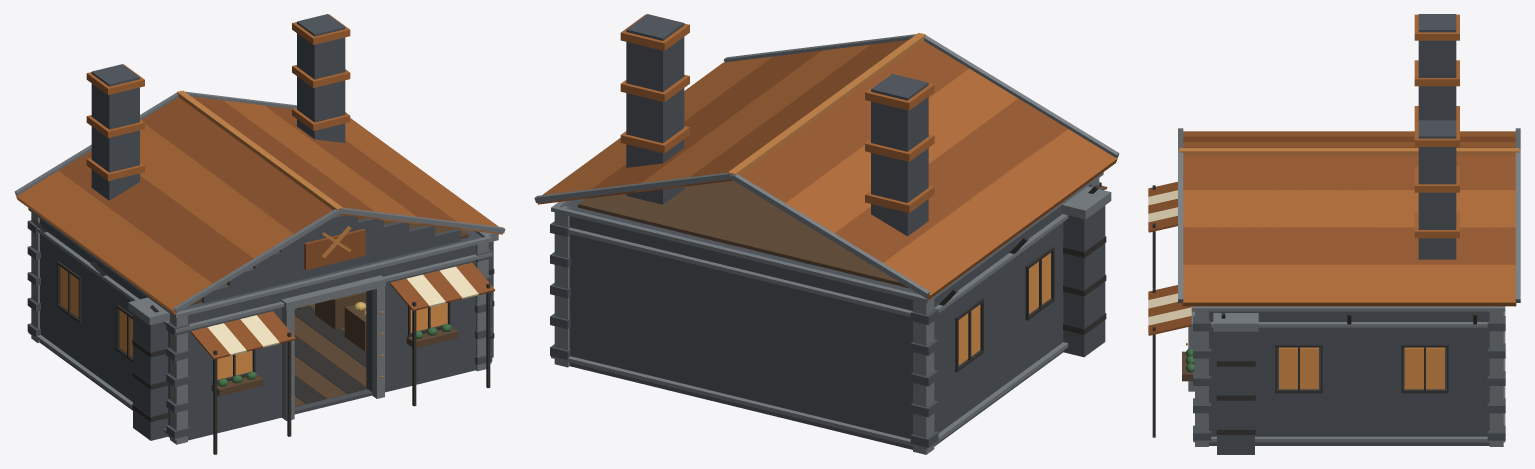
File: Market.glb
3 views of the same model, side by side, from view 1: azimuth 30°, elevation 25°; view 2: azimuth 150°, elevation 25°; view 3: azimuth 270°, elevation 25° (orthographic). The views are drawn at different scales.
Parts seen in each view (by area): view 1: Market_278_ProfileRoof, Market_002_Side, Market_269_ProfileRoof, Market_040_FrontWing, Market_272_ProfileRoof, Market_003_FrontWing, Market_275_ProfileRoof, Market_299_ExhaustStack, Market_312_ExhaustStack, Market_284_ProfileRoof, Market_294_FoundryButtress, Market_290_ProfileRoof (+52 smaller); view 2: Market_001_Rear, Market_002_Side, Market_278_ProfileRoof, Market_095_Ceiling, Market_275_ProfileRoof, Market_269_ProfileRoof, Market_272_ProfileRoof, Market_312_ExhaustStack, Market_299_ExhaustStack, Market_284_ProfileRoof, Market_294_FoundryButtress, Market_287_ProfileRoof (+21 smaller); view 3: Market_039_Side, Market_290_ProfileRoof, Market_287_ProfileRoof, Market_284_ProfileRoof, Market_281_ProfileRoof, Market_312_ExhaustStack, Market_307_FoundryButtress, Market_299_ExhaustStack, Market_293_Ridge, Market_088_SideCourse, Market_080_SideCourse, Market_272_ProfileRoof (+17 smaller).
Part boxes in pixels (x1,y1,x2,y2): Market_278_ProfileRoof: (16,170,212,314); Market_002_Side: (40,219,169,437); Market_269_ProfileRoof: (141,97,332,233); Market_040_FrontWing: (366,235,482,392); Market_272_ProfileRoof: (140,124,293,258); Market_003_FrontWing: (181,283,289,440); Market_275_ProfileRoof: (58,150,253,283); Market_299_ExhaustStack: (91,64,139,200); Market_312_ExhaustStack: (297,14,345,142); Market_284_ProfileRoof: (223,100,420,224); Market_294_FoundryButtress: (133,313,168,440); Market_290_ProfileRoof: (345,118,502,234); Market_001_Rear: (564,205,917,448); Market_002_Side: (917,206,1063,446); Market_278_ProfileRoof: (883,129,1117,299); Market_095_Ceiling: (578,180,908,287); Market_275_ProfileRoof: (834,98,1067,262); Market_269_ProfileRoof: (740,41,968,202); Market_272_ProfileRoof: (785,68,1017,232); Market_312_ExhaustStack: (626,14,684,204); Market_299_ExhaustStack: (871,73,928,236); Market_284_ProfileRoof: (635,44,870,192); Market_294_FoundryButtress: (1063,205,1105,357); Market_287_ProfileRoof: (587,50,821,198); Market_039_Side: (1209,311,1489,445); Market_290_ProfileRoof: (1182,264,1516,306); Market_287_ProfileRoof: (1183,227,1515,264); Market_284_ProfileRoof: (1183,190,1515,228); Market_281_ProfileRoof: (1183,155,1515,190); Market_312_ExhaustStack: (1418,120,1456,259); Market_307_FoundryButtress: (1217,331,1254,454); Market_299_ExhaustStack: (1418,14,1456,120); Market_293_Ridge: (1179,148,1519,155); Market_088_SideCourse: (1193,306,1504,311); Market_080_SideCourse: (1193,436,1504,442); Market_272_ProfileRoof: (1183,142,1515,147).
Size of the model in its own units: 34 by 25.5 by 29.56.
